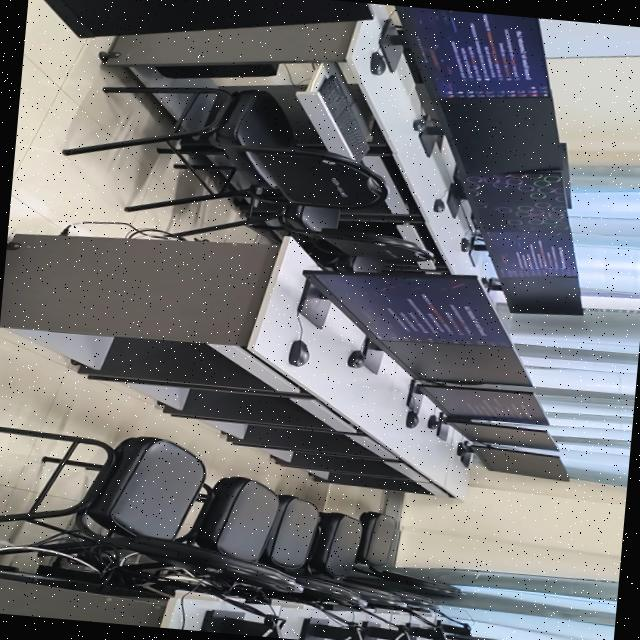Chair: (0, 427, 299, 591), (62, 87, 387, 211), (176, 476, 367, 608), (170, 198, 432, 261), (307, 512, 434, 605), (310, 512, 434, 606), (354, 511, 460, 596), (302, 238, 382, 272)
Cpu: (154, 63, 276, 78)
Keyboard: (318, 75, 368, 159)
Monitor: (378, 5, 549, 99), (298, 271, 509, 346), (43, 0, 370, 37), (419, 98, 566, 175), (362, 332, 528, 385), (447, 172, 567, 232), (406, 380, 546, 424), (468, 231, 576, 278), (463, 445, 568, 481), (487, 276, 582, 315), (442, 418, 556, 450), (441, 624, 503, 640), (557, 143, 570, 208)
Mouse: (287, 339, 309, 366), (369, 51, 385, 75), (347, 350, 363, 367), (480, 277, 496, 290), (405, 411, 417, 428), (426, 415, 439, 429), (412, 118, 426, 131), (432, 199, 445, 212), (457, 442, 469, 456), (460, 238, 471, 252)
